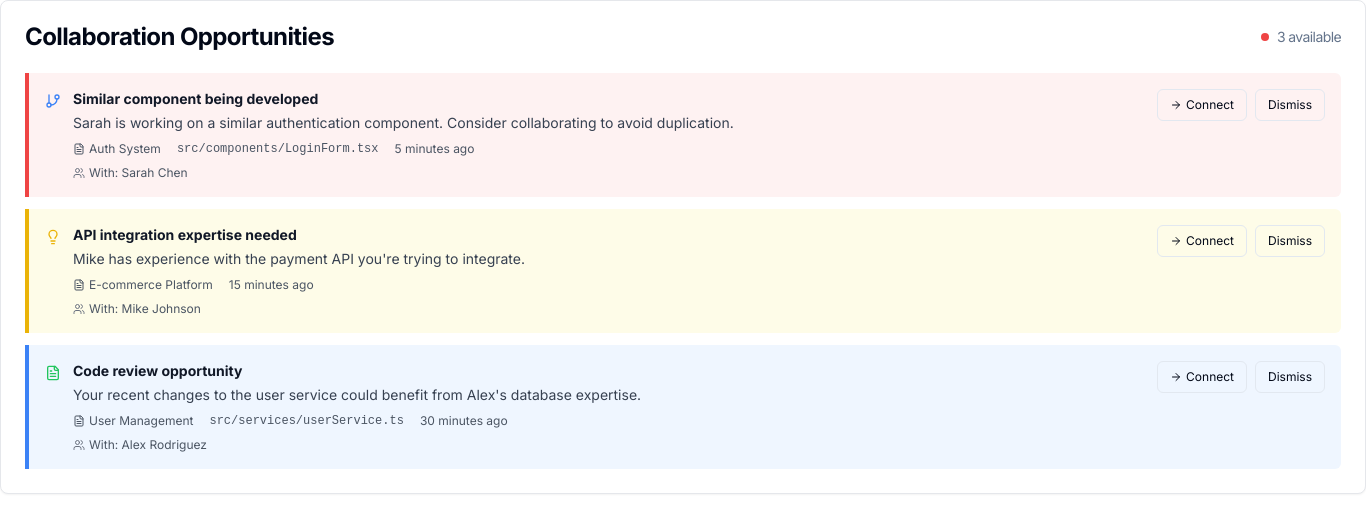
Scenario: CollaborationSuggestions › should handle accepting a suggestion
The image size is (1366, 511).
Check: the heading "Similar component being developed" is shown, box x1=73 y1=90 x2=318 y2=107
Note: Find and click the Connect button for the first suggestion
Click the button "Connect" in the row of "Similar component being developed".
click(1202, 105)  # box x1=1157 y1=89 x2=1247 y2=121
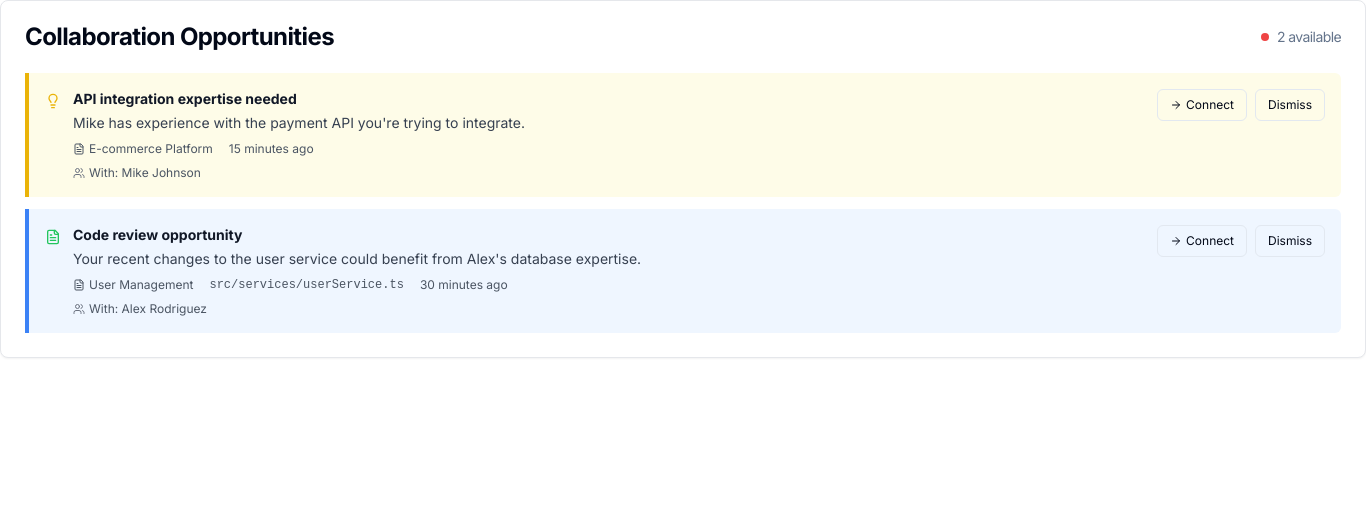
Check: the heading "API integration expertise needed" is shown, box x1=73 y1=90 x2=297 y2=107
Check: the heading "Similar component being developed" is gone
